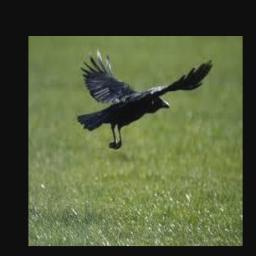Crow: (76, 45, 212, 149)
